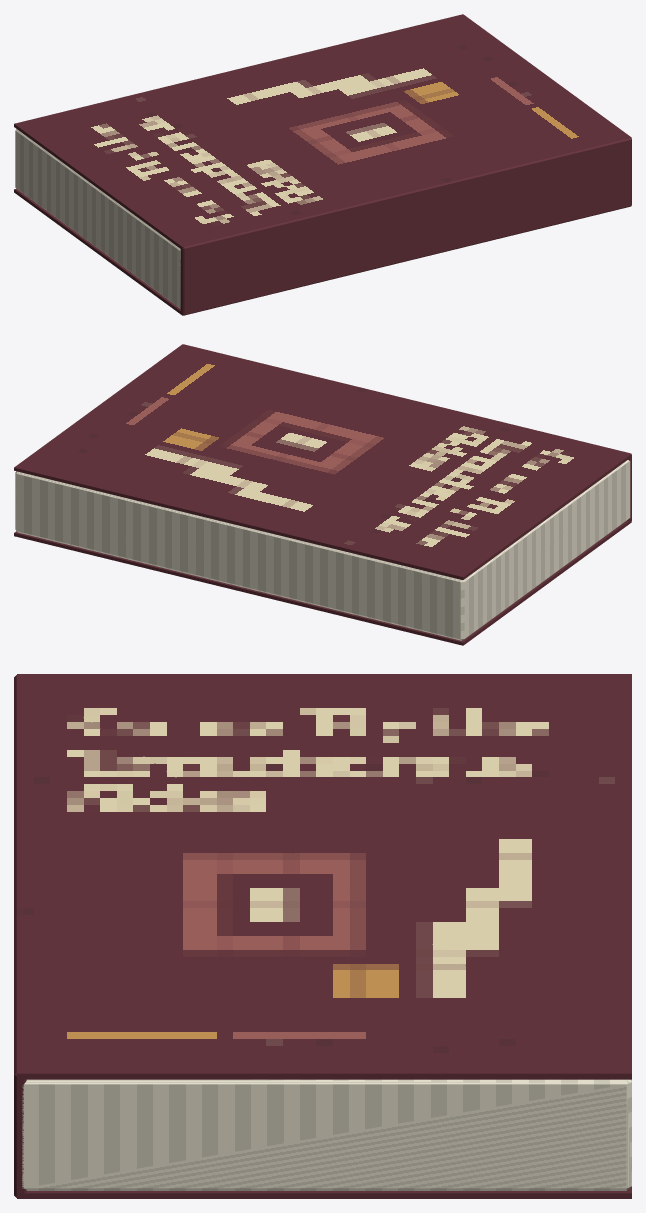
Rendered from novel_spy_comefly.glb.
The picture shows the model from 3 angles, top to bottom: view 1: azimuth 30°, elevation 25°; view 2: azimuth 150°, elevation 25°; view 3: azimuth 270°, elevation 25°; orthographic projection. The views are drawn at different scales.
Visible parts, largest first — view 1: block_front, block_spine, block_pages, block_back; view 2: block_front, block_pages, block_back, block_spine; view 3: block_front, block_pages, block_back, block_spine.
Part boxes in pixels (x1,y1,x2,y2): block_front: [14, 14, 631, 249]; block_spine: [180, 136, 631, 315]; block_pages: [15, 129, 180, 308]; block_back: [14, 188, 183, 315]; block_front: [14, 344, 631, 579]; block_pages: [15, 460, 630, 640]; block_back: [14, 520, 631, 645]; block_spine: [183, 344, 631, 521]; block_front: [17, 674, 631, 1079]; block_pages: [22, 1079, 631, 1190]; block_back: [17, 1186, 631, 1198]; block_spine: [14, 675, 26, 1197].
Size of the model in its own units: 0.18 by 0.0263 by 0.1176.
1 material, 1 textured.
